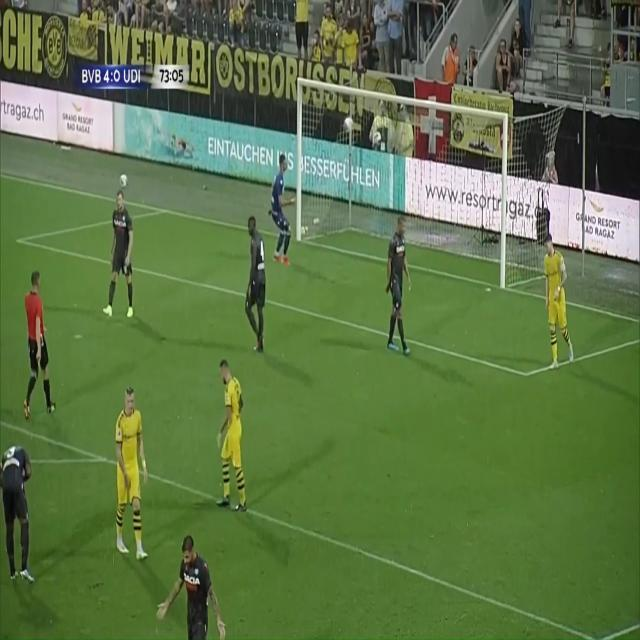ball: (117, 169, 129, 189)
goalkeeper: (265, 148, 302, 269)
player: (0, 416, 51, 586), (204, 347, 255, 511), (158, 530, 229, 640), (531, 221, 573, 380), (113, 389, 147, 566), (383, 207, 421, 365), (241, 212, 279, 364), (107, 193, 140, 328)
referee: (17, 274, 72, 430)
